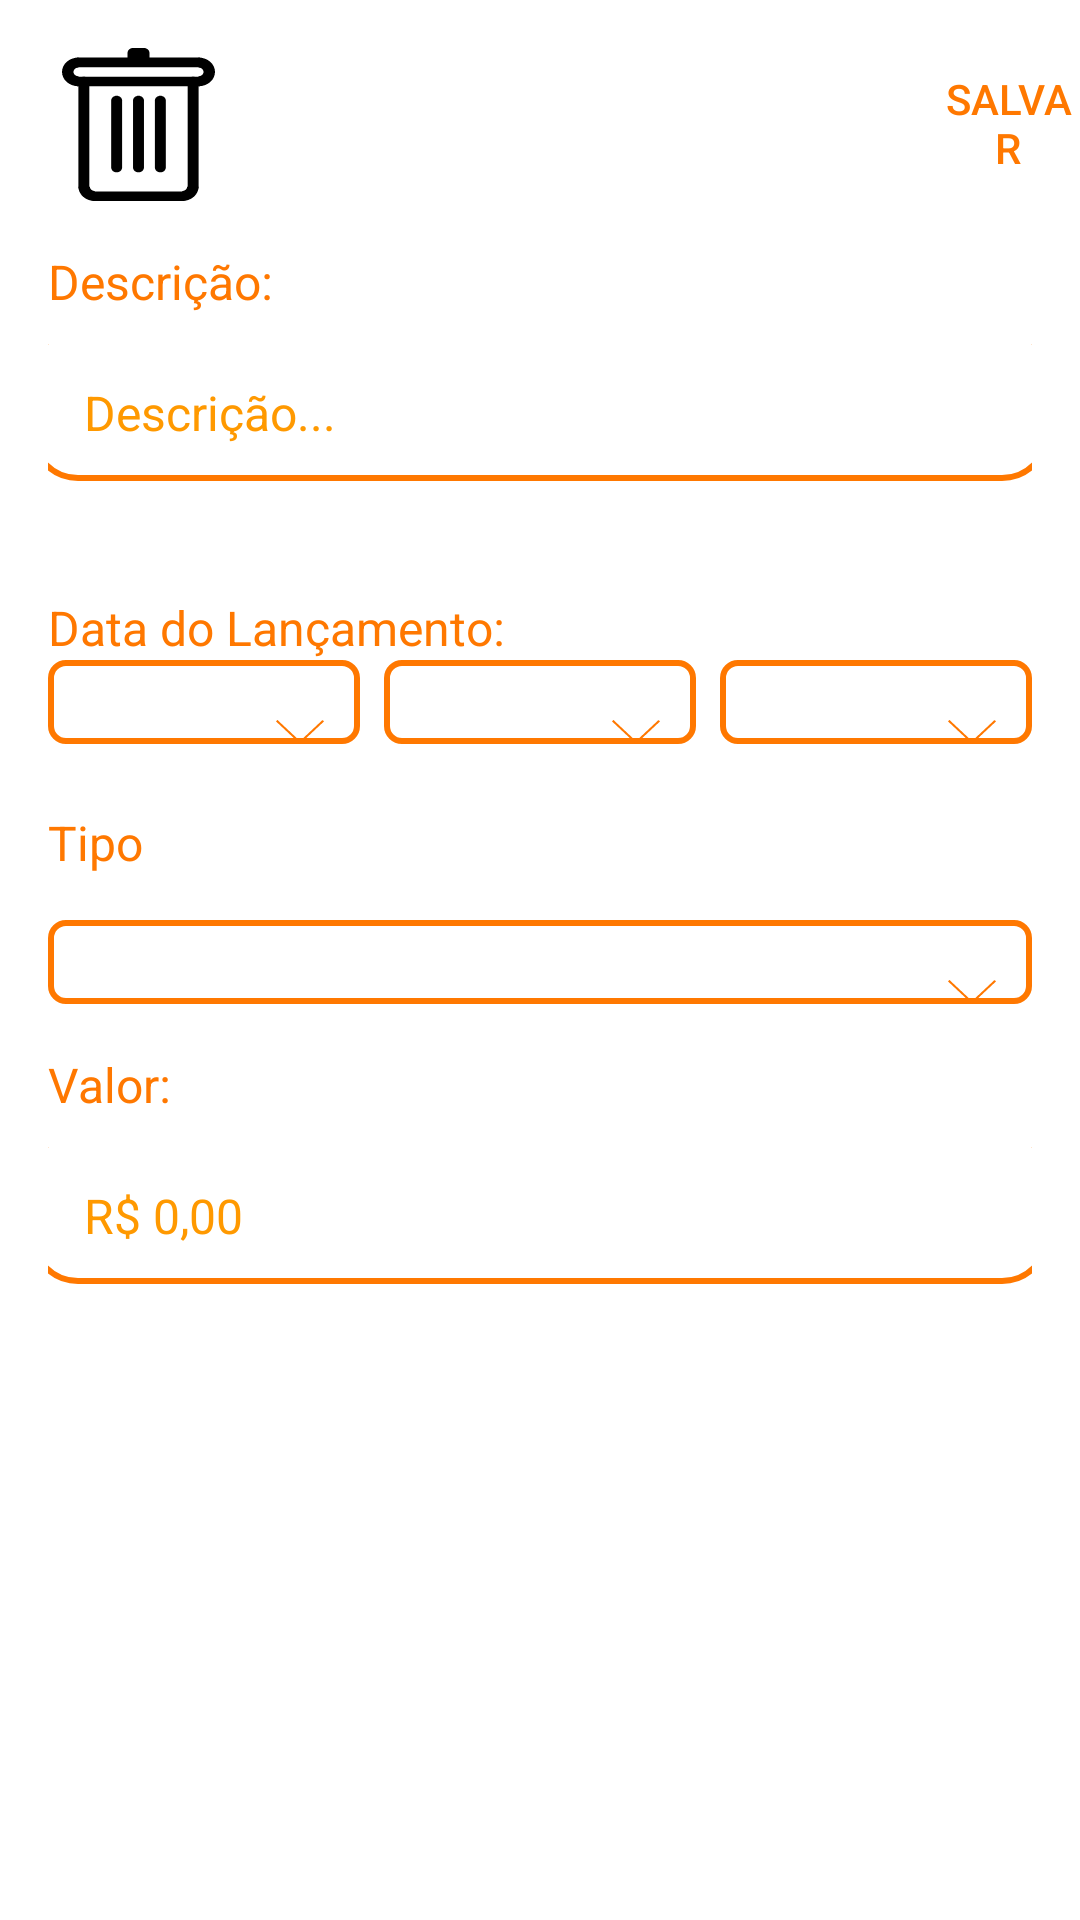

Icons on this 1080×1920 Android screen, each with the point to tap as (x,y):
lixeira: (138,124)
